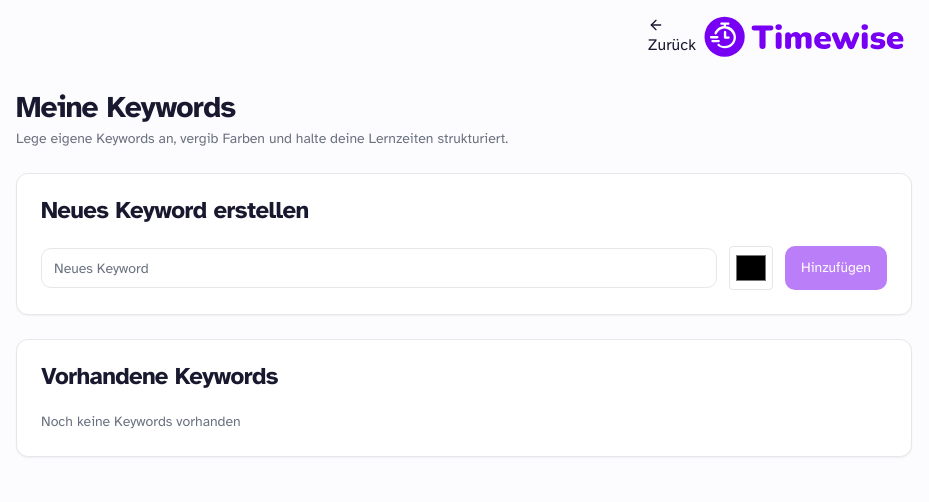
Test: KeywordsPage › surfaces backend create errors inside the form
Expected: the text "Noch keine Keywords vorhanden" is shown, [41, 413, 241, 430]
Type "Mathe" into the field with placeholder "Neues Keyword" at (379, 268), box [41, 248, 717, 288]
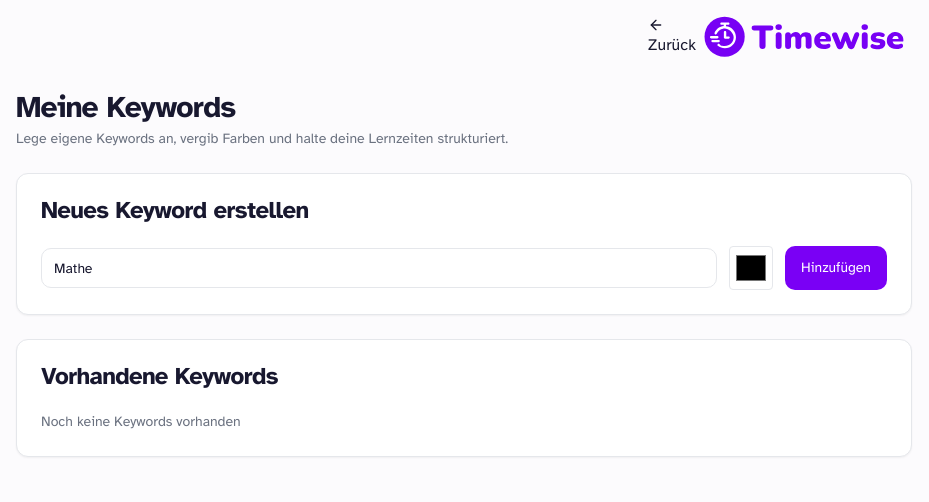
Click the button "Hinzufügen" at (836, 268), box [785, 246, 887, 290]
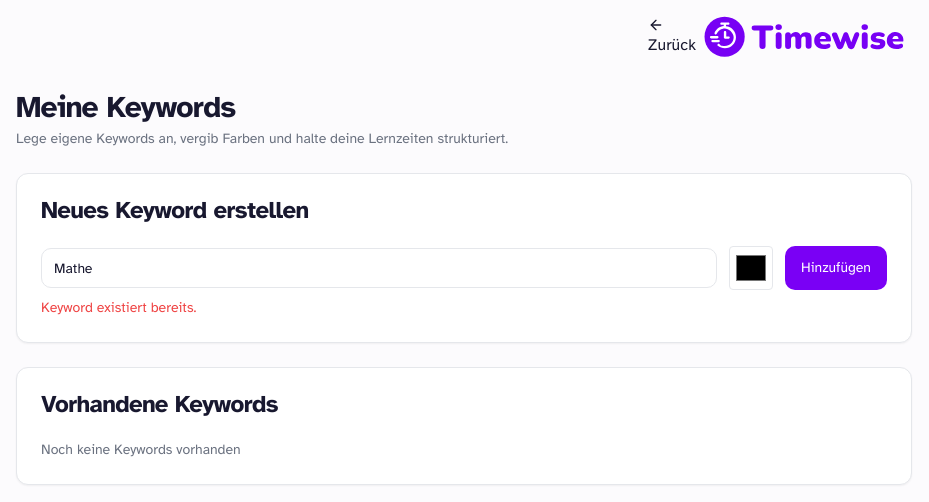
Now the text "Keyword existiert bereits." is shown, box [41, 299, 196, 316]
